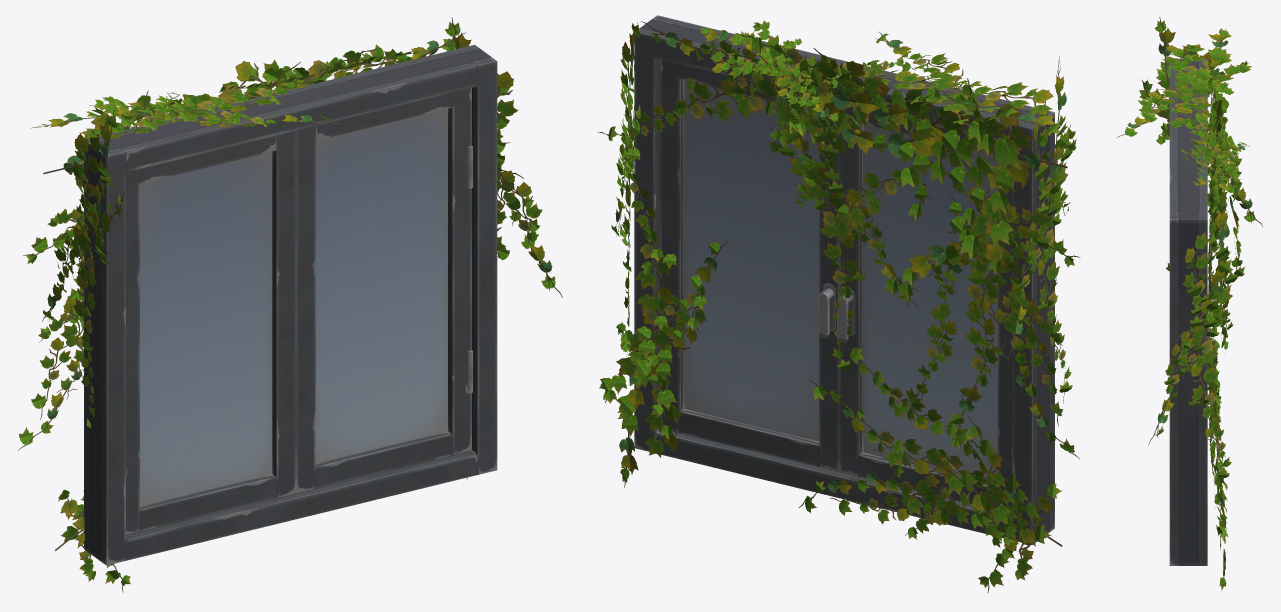
File: P_Window_00155_02.obj
3 views of the same model, side by side, from view 1: azimuth 30°, elevation 25°; view 2: azimuth 150°, elevation 25°; view 3: azimuth 270°, elevation 25° (orthographic). The views are drawn at different scales.
Size of the model in its own units: 2.59 by 2.56 by 0.811.
15 materials, 15 textured.
